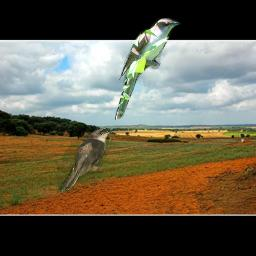Cuckoo: (115, 18, 182, 120), (57, 128, 113, 193)
